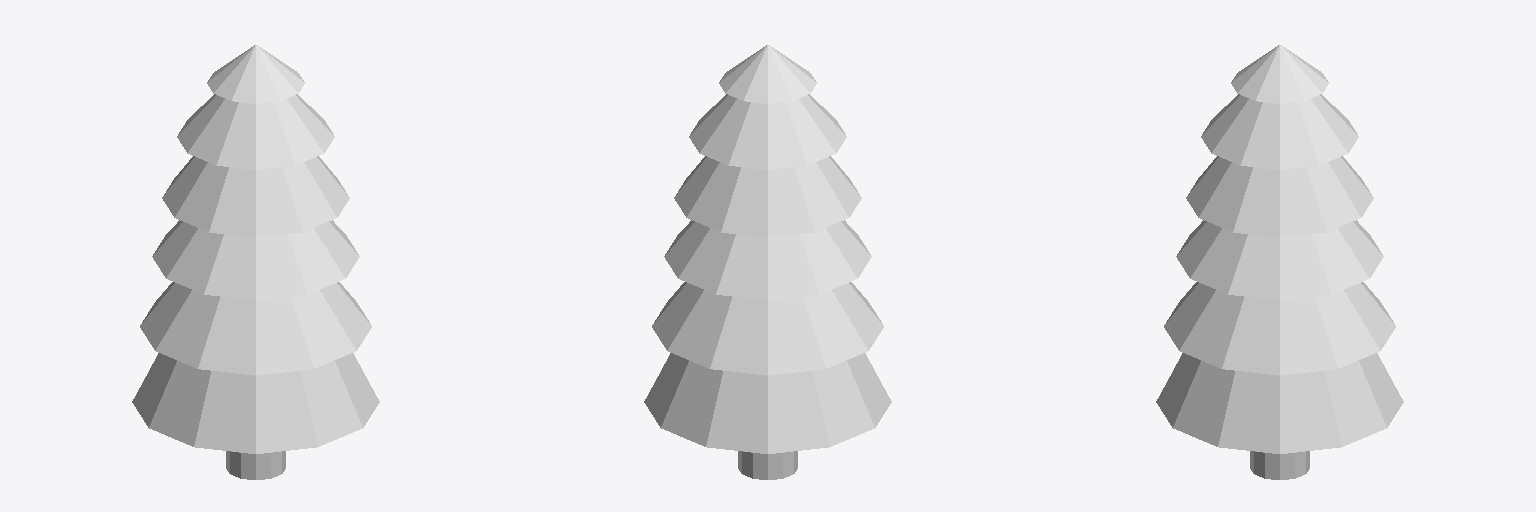
The model's file is tree.obj.
3 views of the same model, side by side, from view 1: azimuth 30°, elevation 25°; view 2: azimuth 150°, elevation 25°; view 3: azimuth 270°, elevation 25° (orthographic).
Visible parts, largest first — view 1: Cylinder; view 2: Cylinder; view 3: Cylinder.
Part boxes in pixels (x1,y1,x2,y2): Cylinder: (132, 45, 379, 479); Cylinder: (644, 45, 891, 479); Cylinder: (1156, 45, 1403, 479).
Size of the model in its own units: 1.29 by 2.44 by 1.29.